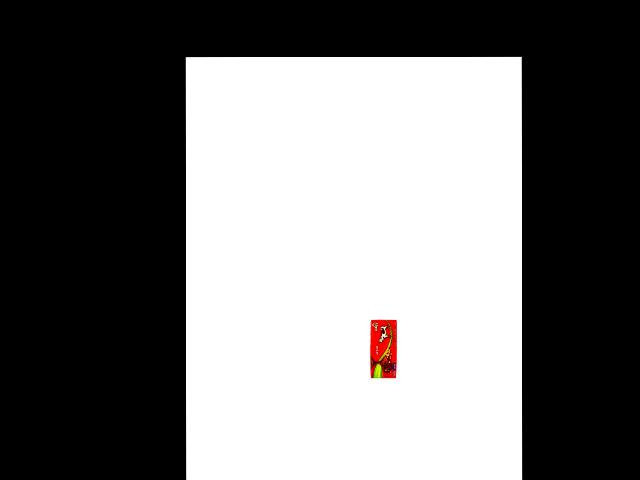chocolate: (368, 316, 402, 379)
